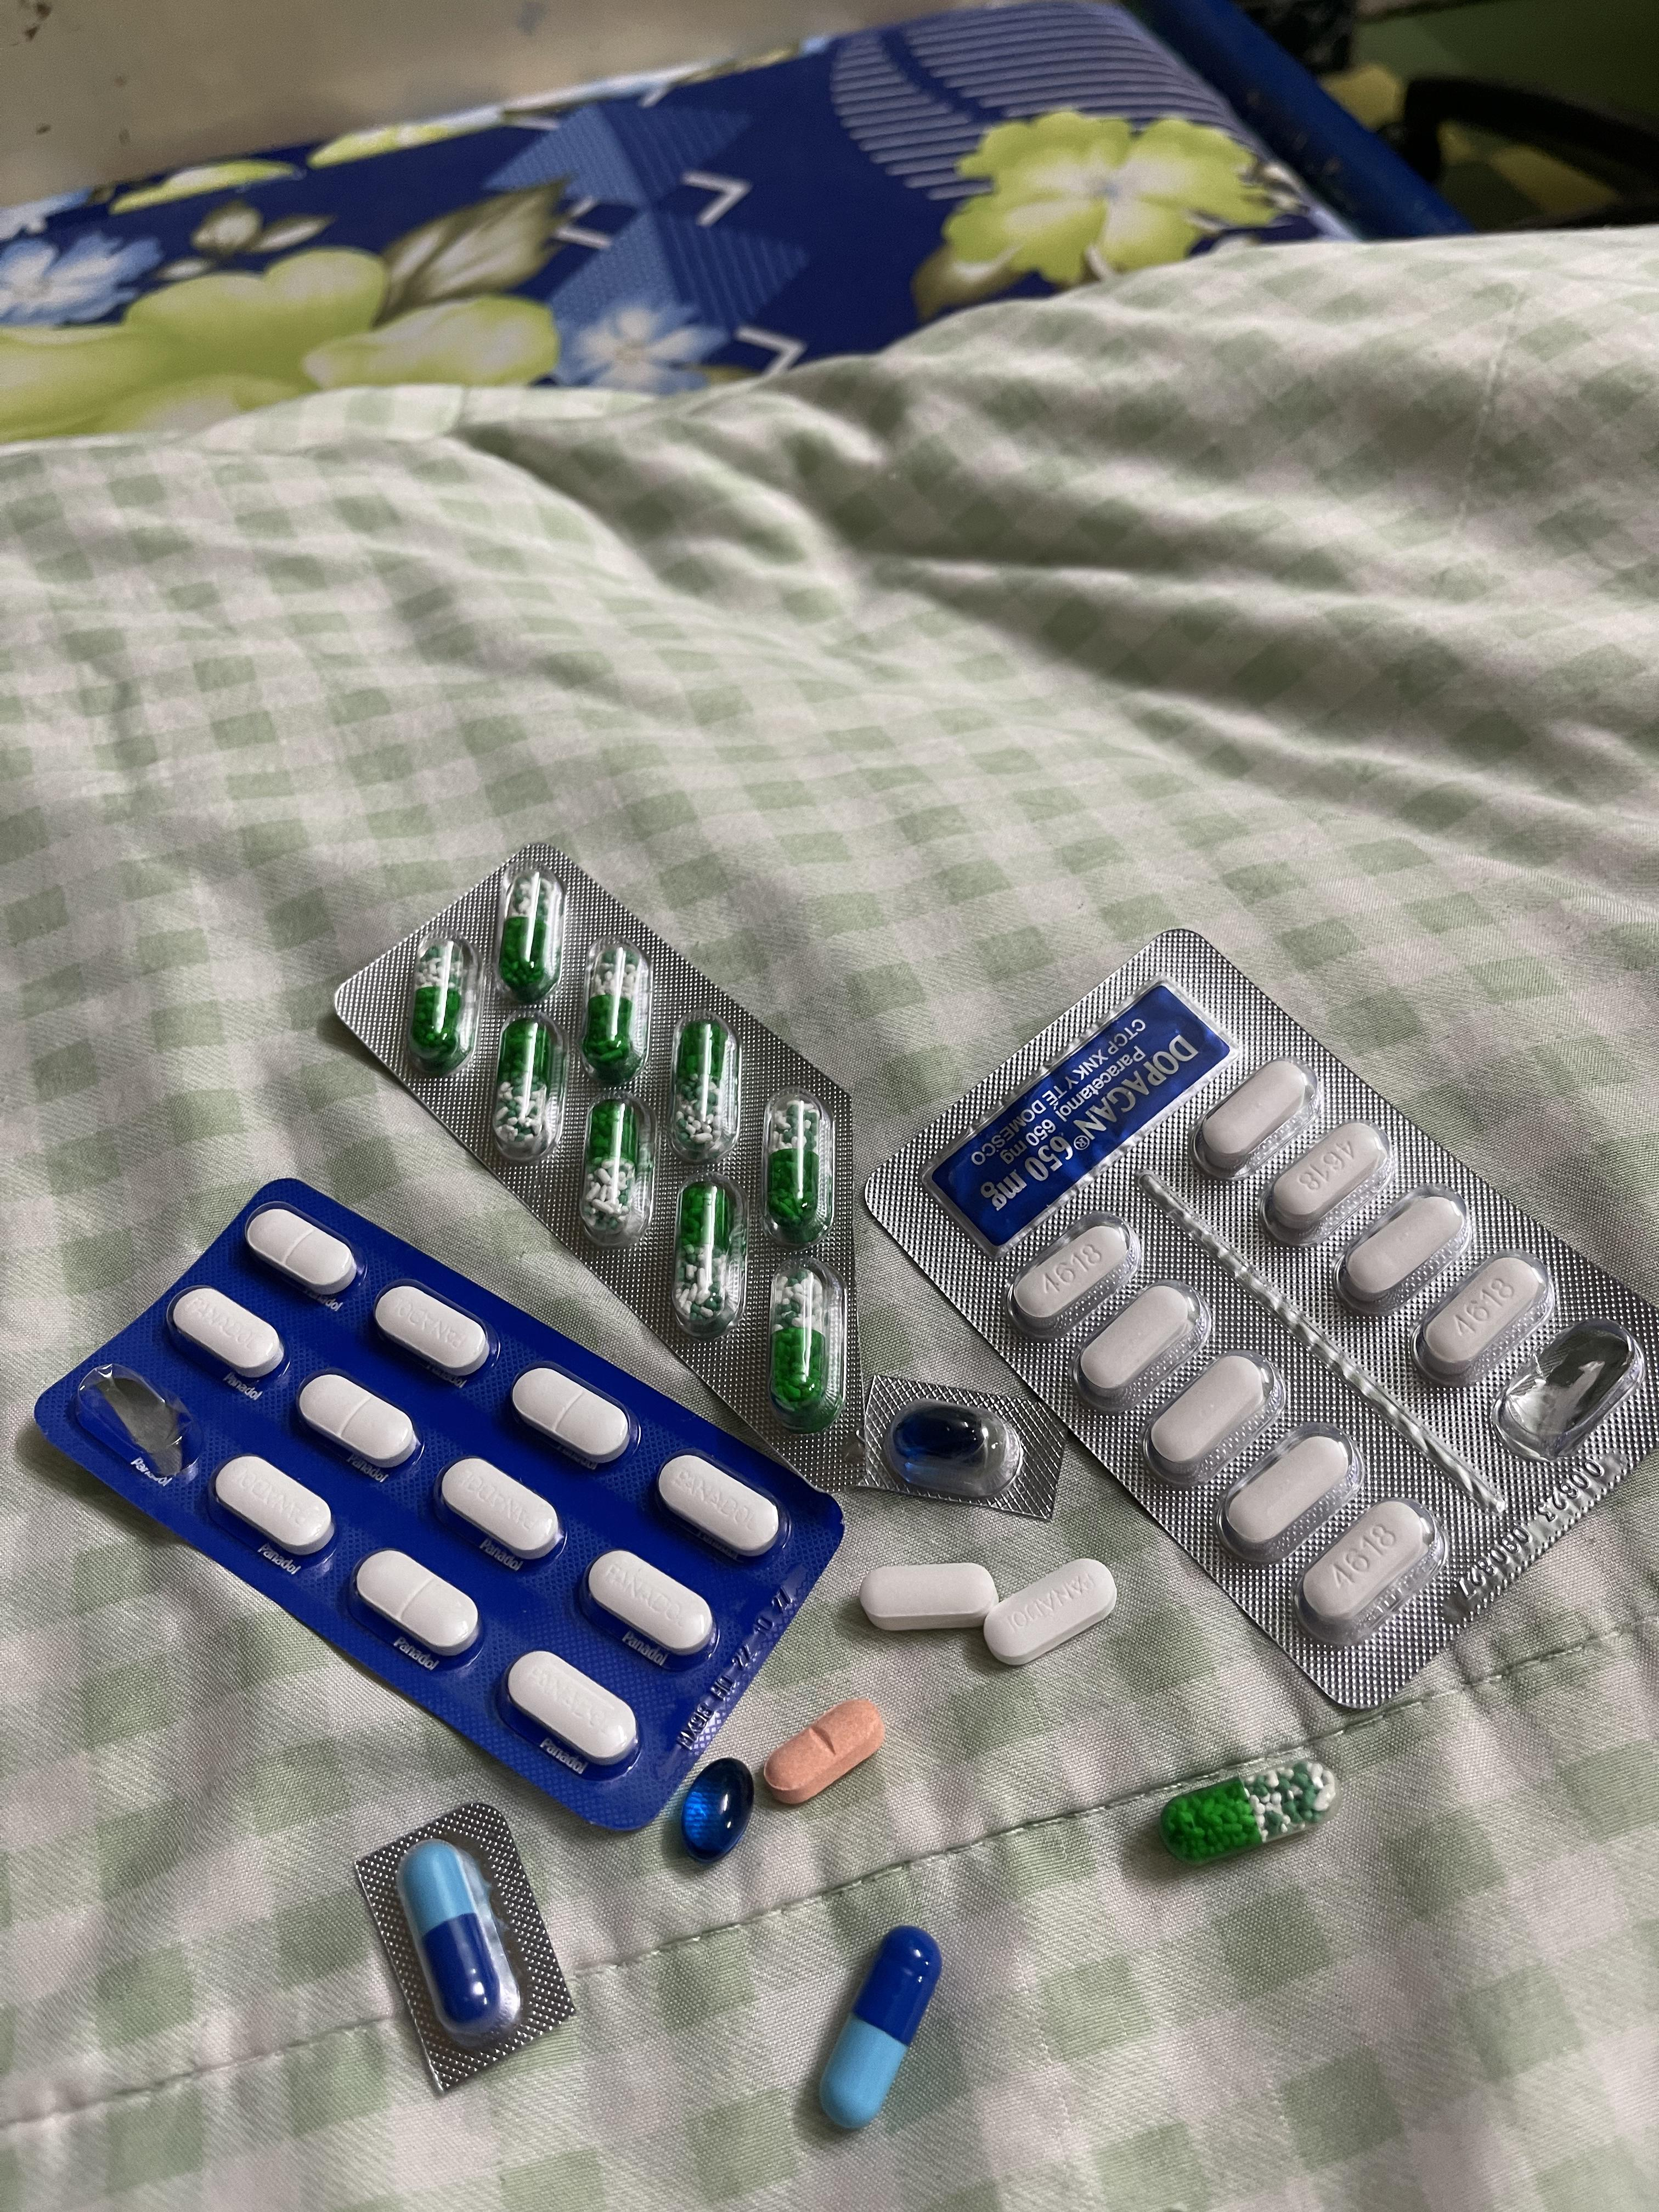Lincomyxin_500mg: (678, 1757, 755, 1862), (896, 1411, 979, 1460)
Loratadine_10mg: (760, 1696, 871, 1804)
Paracetamol_350mg: (505, 1651, 640, 1768), (657, 1454, 788, 1561), (354, 1550, 479, 1658), (587, 1550, 714, 1656), (986, 1559, 1114, 1663), (441, 1458, 561, 1561), (512, 1367, 633, 1468), (214, 1456, 335, 1557), (298, 1374, 418, 1472), (375, 1284, 493, 1379), (246, 1204, 361, 1299), (171, 1287, 284, 1381)
Paracetamol_500mg: (1410, 1240, 1553, 1381), (1305, 1505, 1446, 1648), (1143, 1343, 1277, 1480), (1335, 1186, 1467, 1320), (1262, 1115, 1394, 1240), (1077, 1282, 1202, 1413), (1223, 1432, 1354, 1555), (1007, 1212, 1131, 1341), (1201, 1061, 1314, 1160), (861, 1561, 995, 1634)
Paracetamol_650mg: (1164, 1754, 1338, 1857), (765, 1258, 842, 1420), (575, 1097, 657, 1249), (673, 1179, 748, 1334), (491, 1017, 565, 1162), (765, 1094, 835, 1244), (669, 1019, 741, 1163), (586, 941, 657, 1078), (410, 937, 483, 1071), (498, 871, 559, 1000)
pill: (397, 1838, 519, 2047), (817, 1925, 939, 2127)
